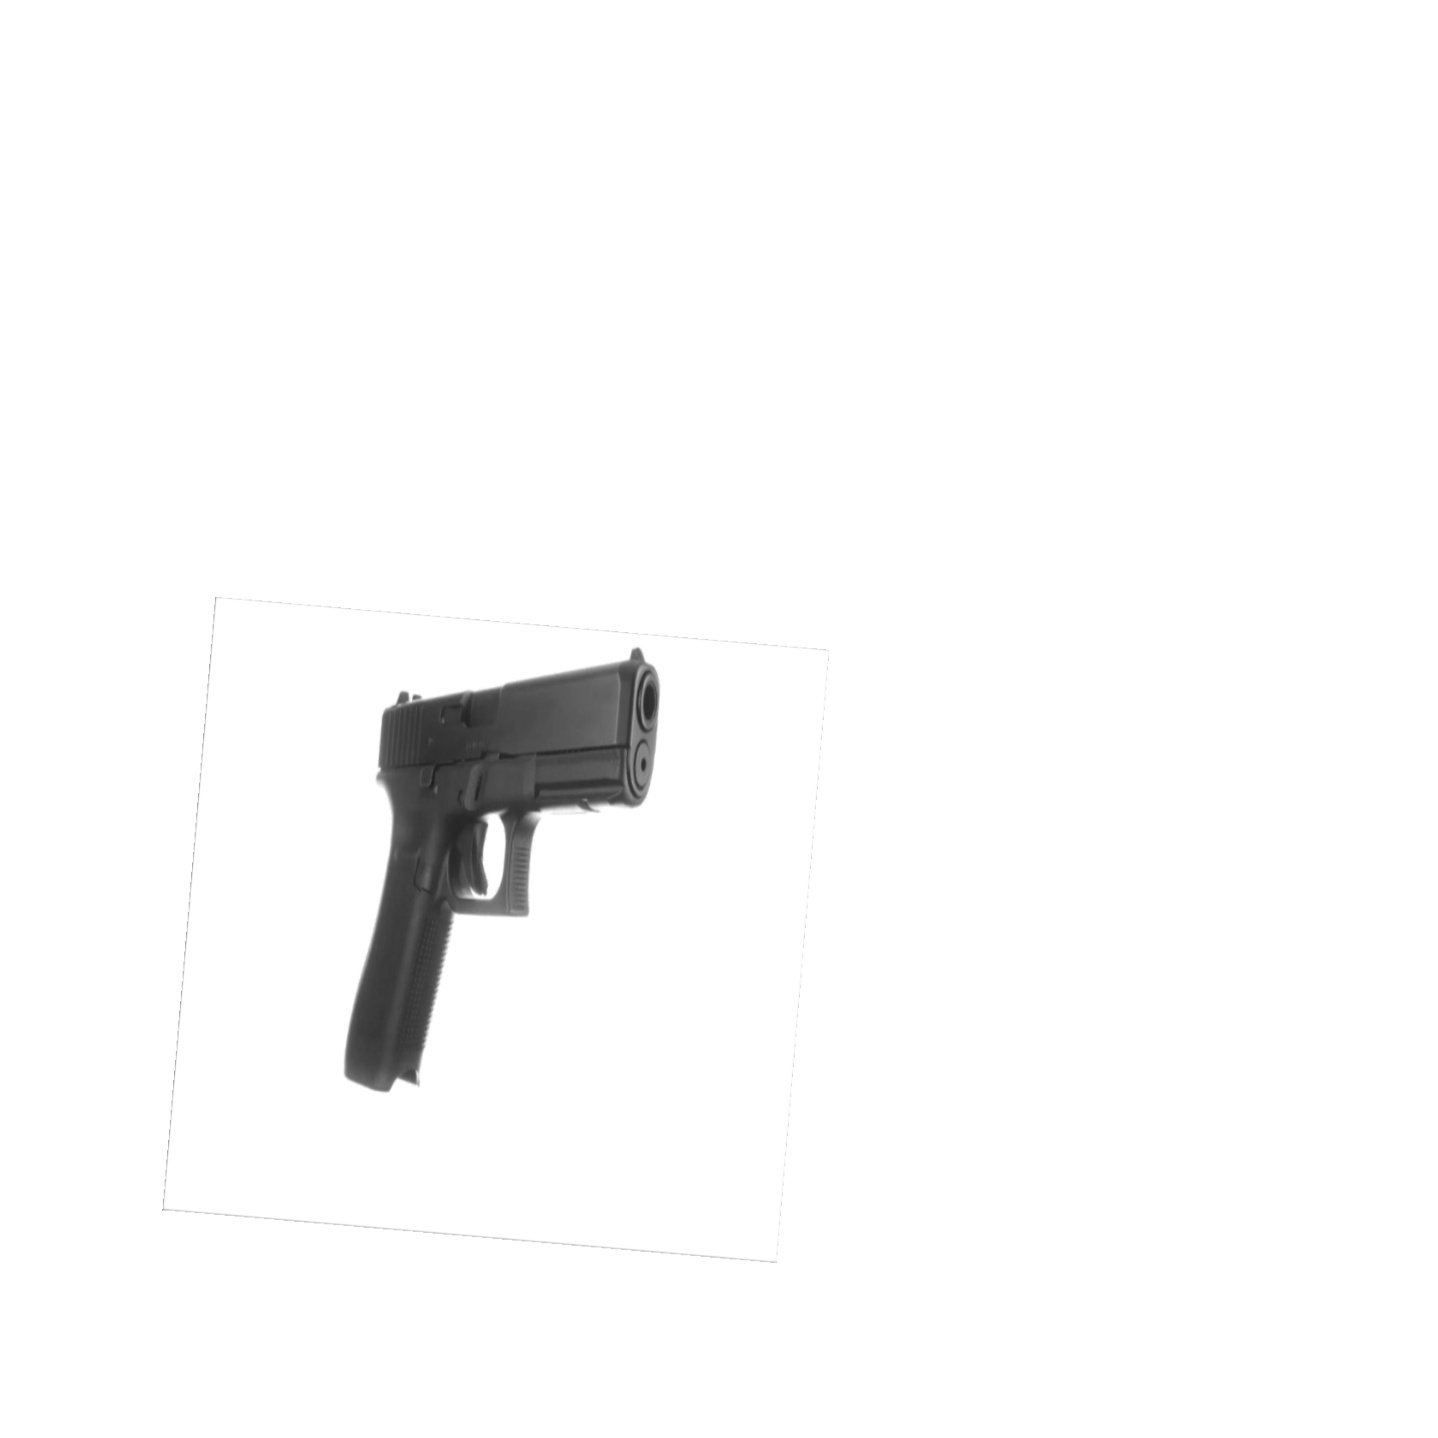gun: (334, 636, 668, 1098)
